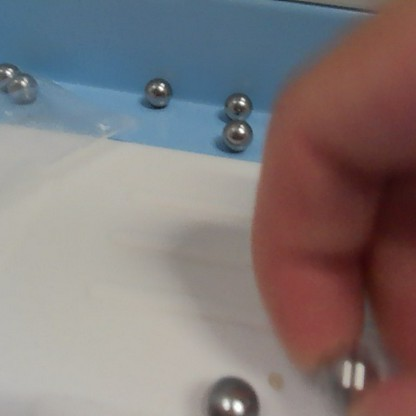ironball: (314, 332, 386, 402), (197, 365, 263, 414), (136, 74, 176, 112), (218, 86, 258, 121), (218, 120, 253, 157), (5, 71, 41, 106), (0, 58, 15, 93)
